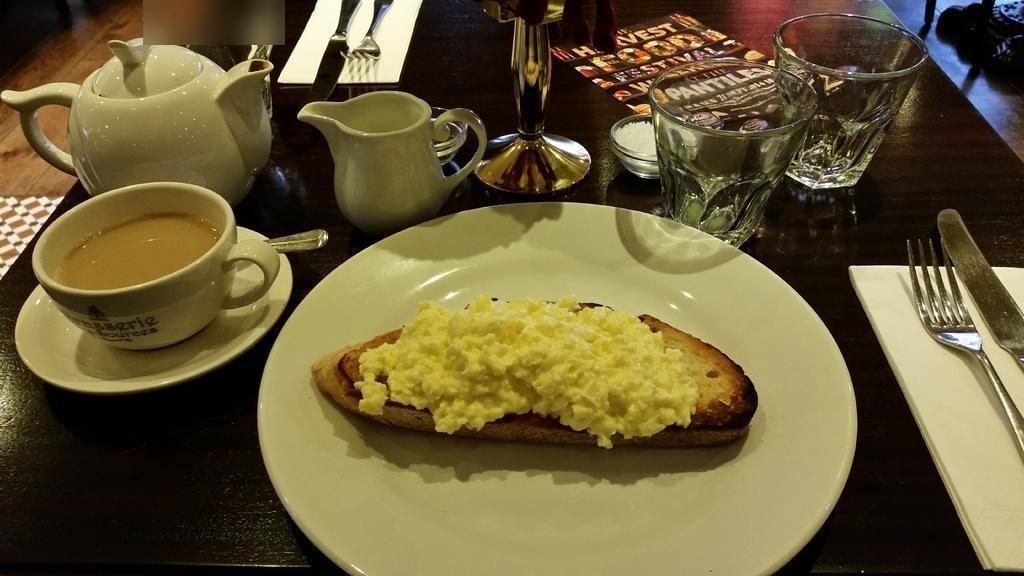cup-handle: (31, 179, 283, 355)
glass-normal: (647, 57, 820, 248), (772, 12, 932, 189)
